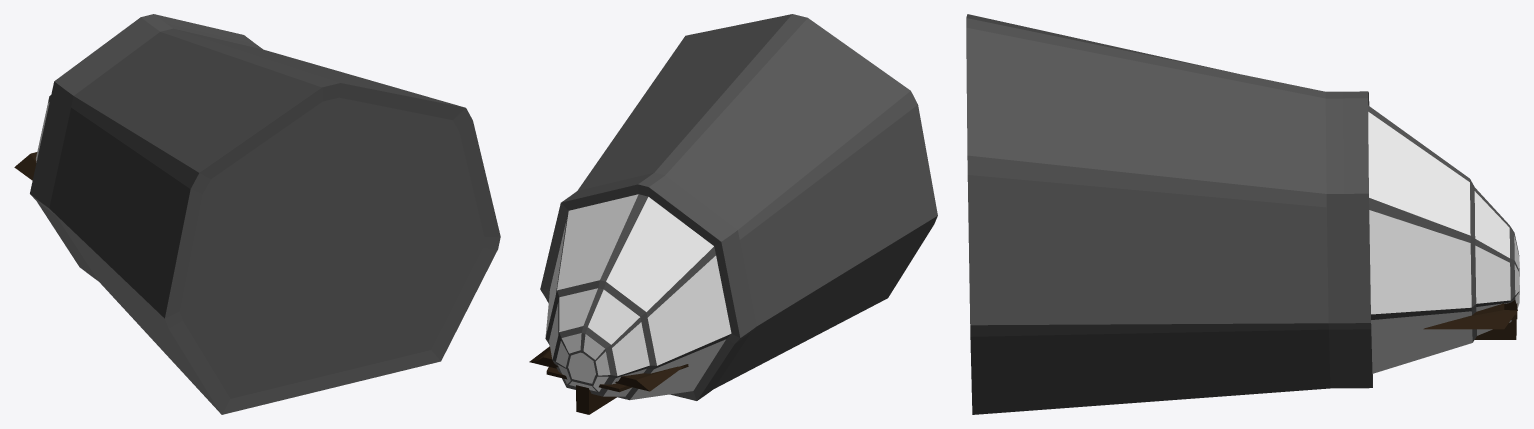
File: SpaceStudio.fbx
3 views of the same model, side by side, from view 1: azimuth 30°, elevation 25°; view 2: azimuth 150°, elevation 25°; view 3: azimuth 270°, elevation 25° (orthographic). The views are drawn at different scales.
Parts seen in each view (by area): view 1: Kapsel; view 2: Kapsel, Mixer, MixDesk; view 3: Kapsel, Mixer, MixDesk.
Boxes of the visible parts, bbox=[...] form: Kapsel: bbox=[30, 14, 500, 414]; Kapsel: bbox=[540, 14, 937, 400]; Mixer: bbox=[529, 346, 683, 391]; MixDesk: bbox=[546, 364, 688, 414]; Kapsel: bbox=[966, 14, 1519, 414]; Mixer: bbox=[1423, 300, 1517, 329]; MixDesk: bbox=[1475, 303, 1517, 339].
Bounding box in the file's own units: 781 × 679 × 1025.
